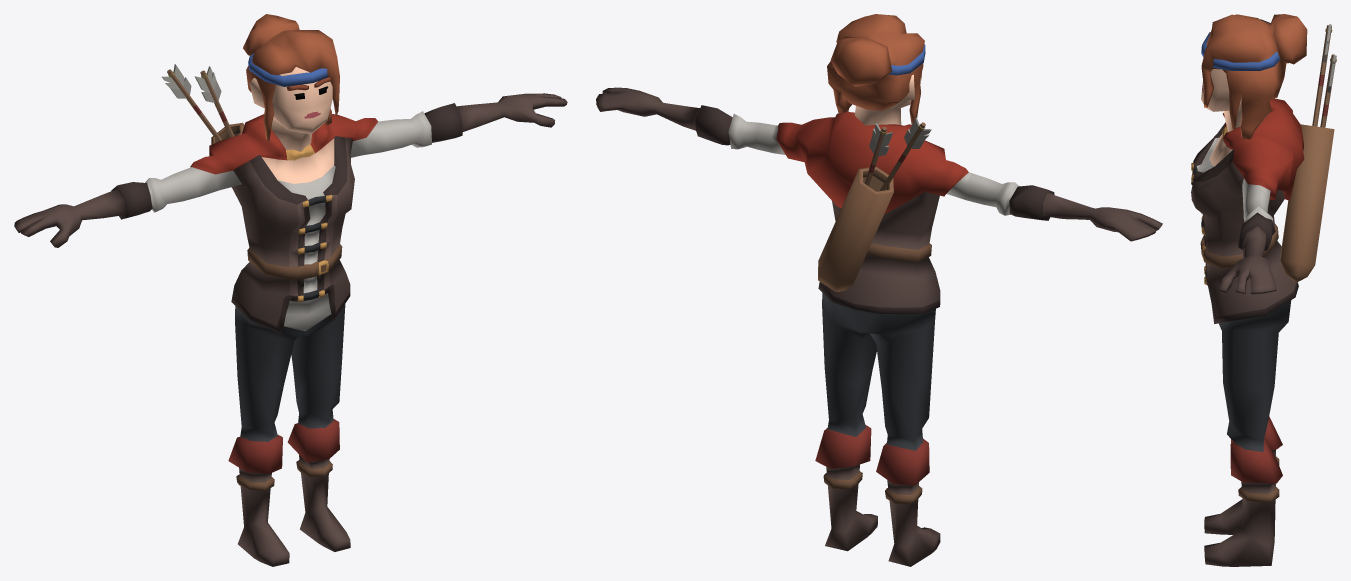
Rendered from archer.fbx.
3 views of the same model, side by side, from view 1: azimuth 30°, elevation 25°; view 2: azimuth 150°, elevation 25°; view 3: azimuth 270°, elevation 25° (orthographic). The views are drawn at different scales.
Visible parts, largest first — view 1: archer; view 2: archer; view 3: archer.
Part boxes in pixels (x1,y1,x2,y2): archer: (14, 14, 567, 566); archer: (596, 14, 1162, 566); archer: (1191, 14, 1336, 566).
Bounding box in the file's own units: 289 × 261 × 64.99.
